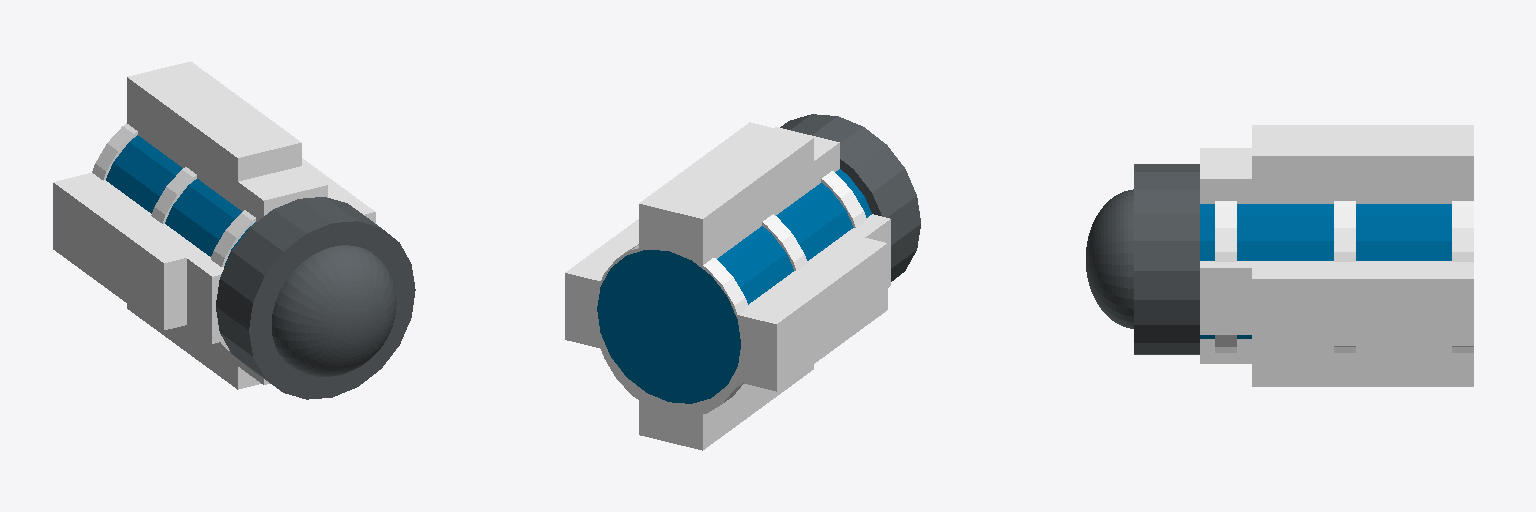
The model's file is tinker.obj.
3 renders of one model, left to right at view 1: azimuth 30°, elevation 25°; view 2: azimuth 150°, elevation 25°; view 3: azimuth 270°, elevation 25°, orthographic.
Parts seen in each view (by area): view 1: obj_0; view 2: obj_0; view 3: obj_0.
Boxes of the visible parts, x1,y1,x2,y2 form: obj_0: [53, 61, 415, 399]; obj_0: [565, 114, 920, 450]; obj_0: [1086, 125, 1473, 386].
Size of the model in its own units: 66 by 69 by 105.